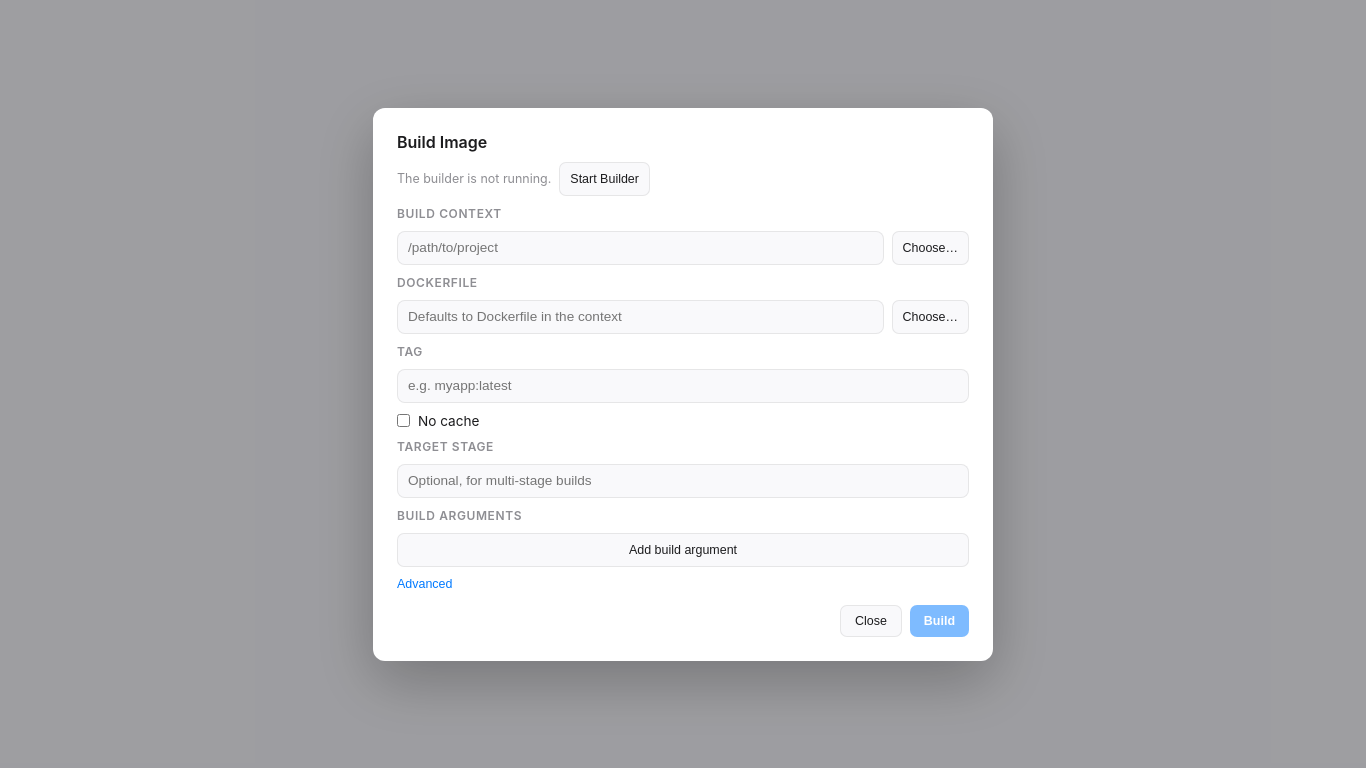
Test: BuildModal › re-enables Start Builder after a start that failed
This screenshot has width=1366, height=768.
Click the button "Start Builder".
click(605, 178)  # box top-left (559, 162), bottom-right (650, 196)
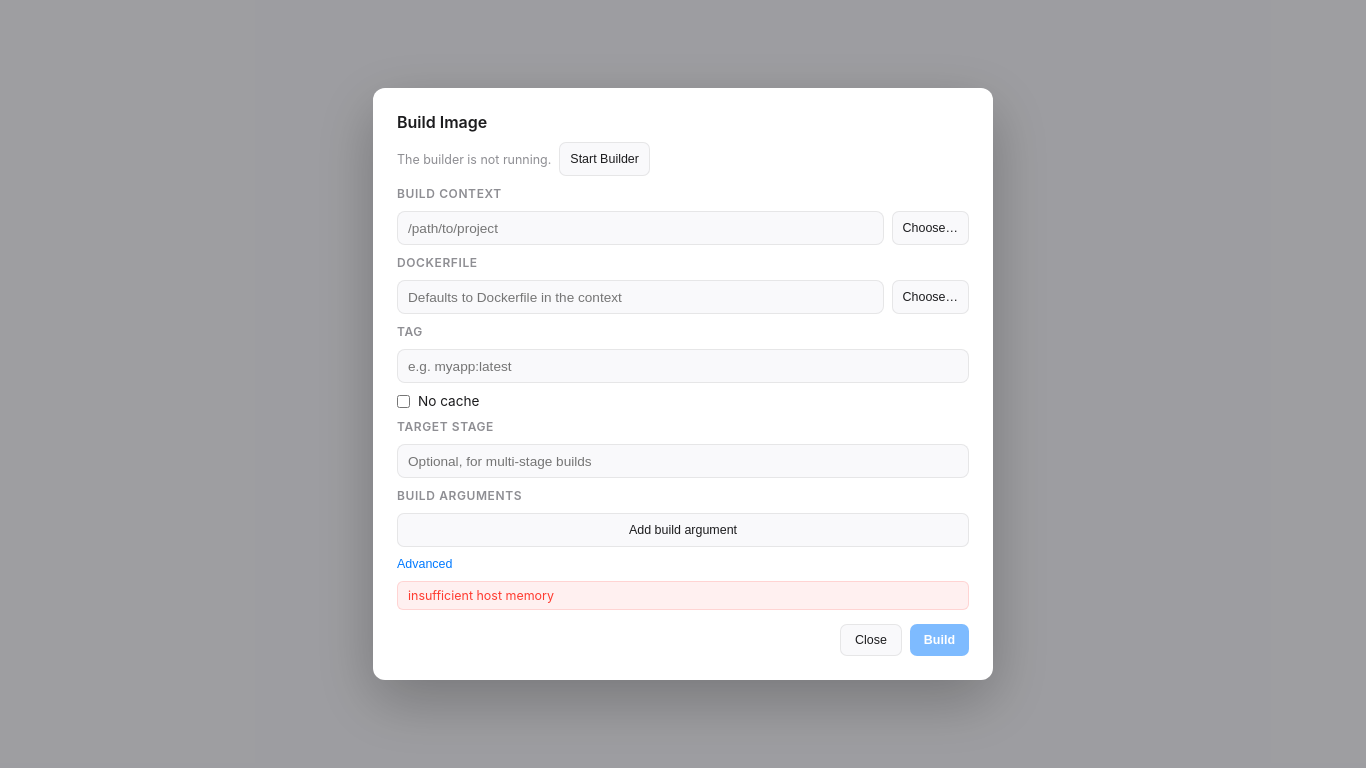
Expected: the button "Start Builder" is enabled, top-left (559, 142), bottom-right (650, 176)
Now the text "insufficient host memory" is shown, box top-left (397, 581), bottom-right (969, 610)
